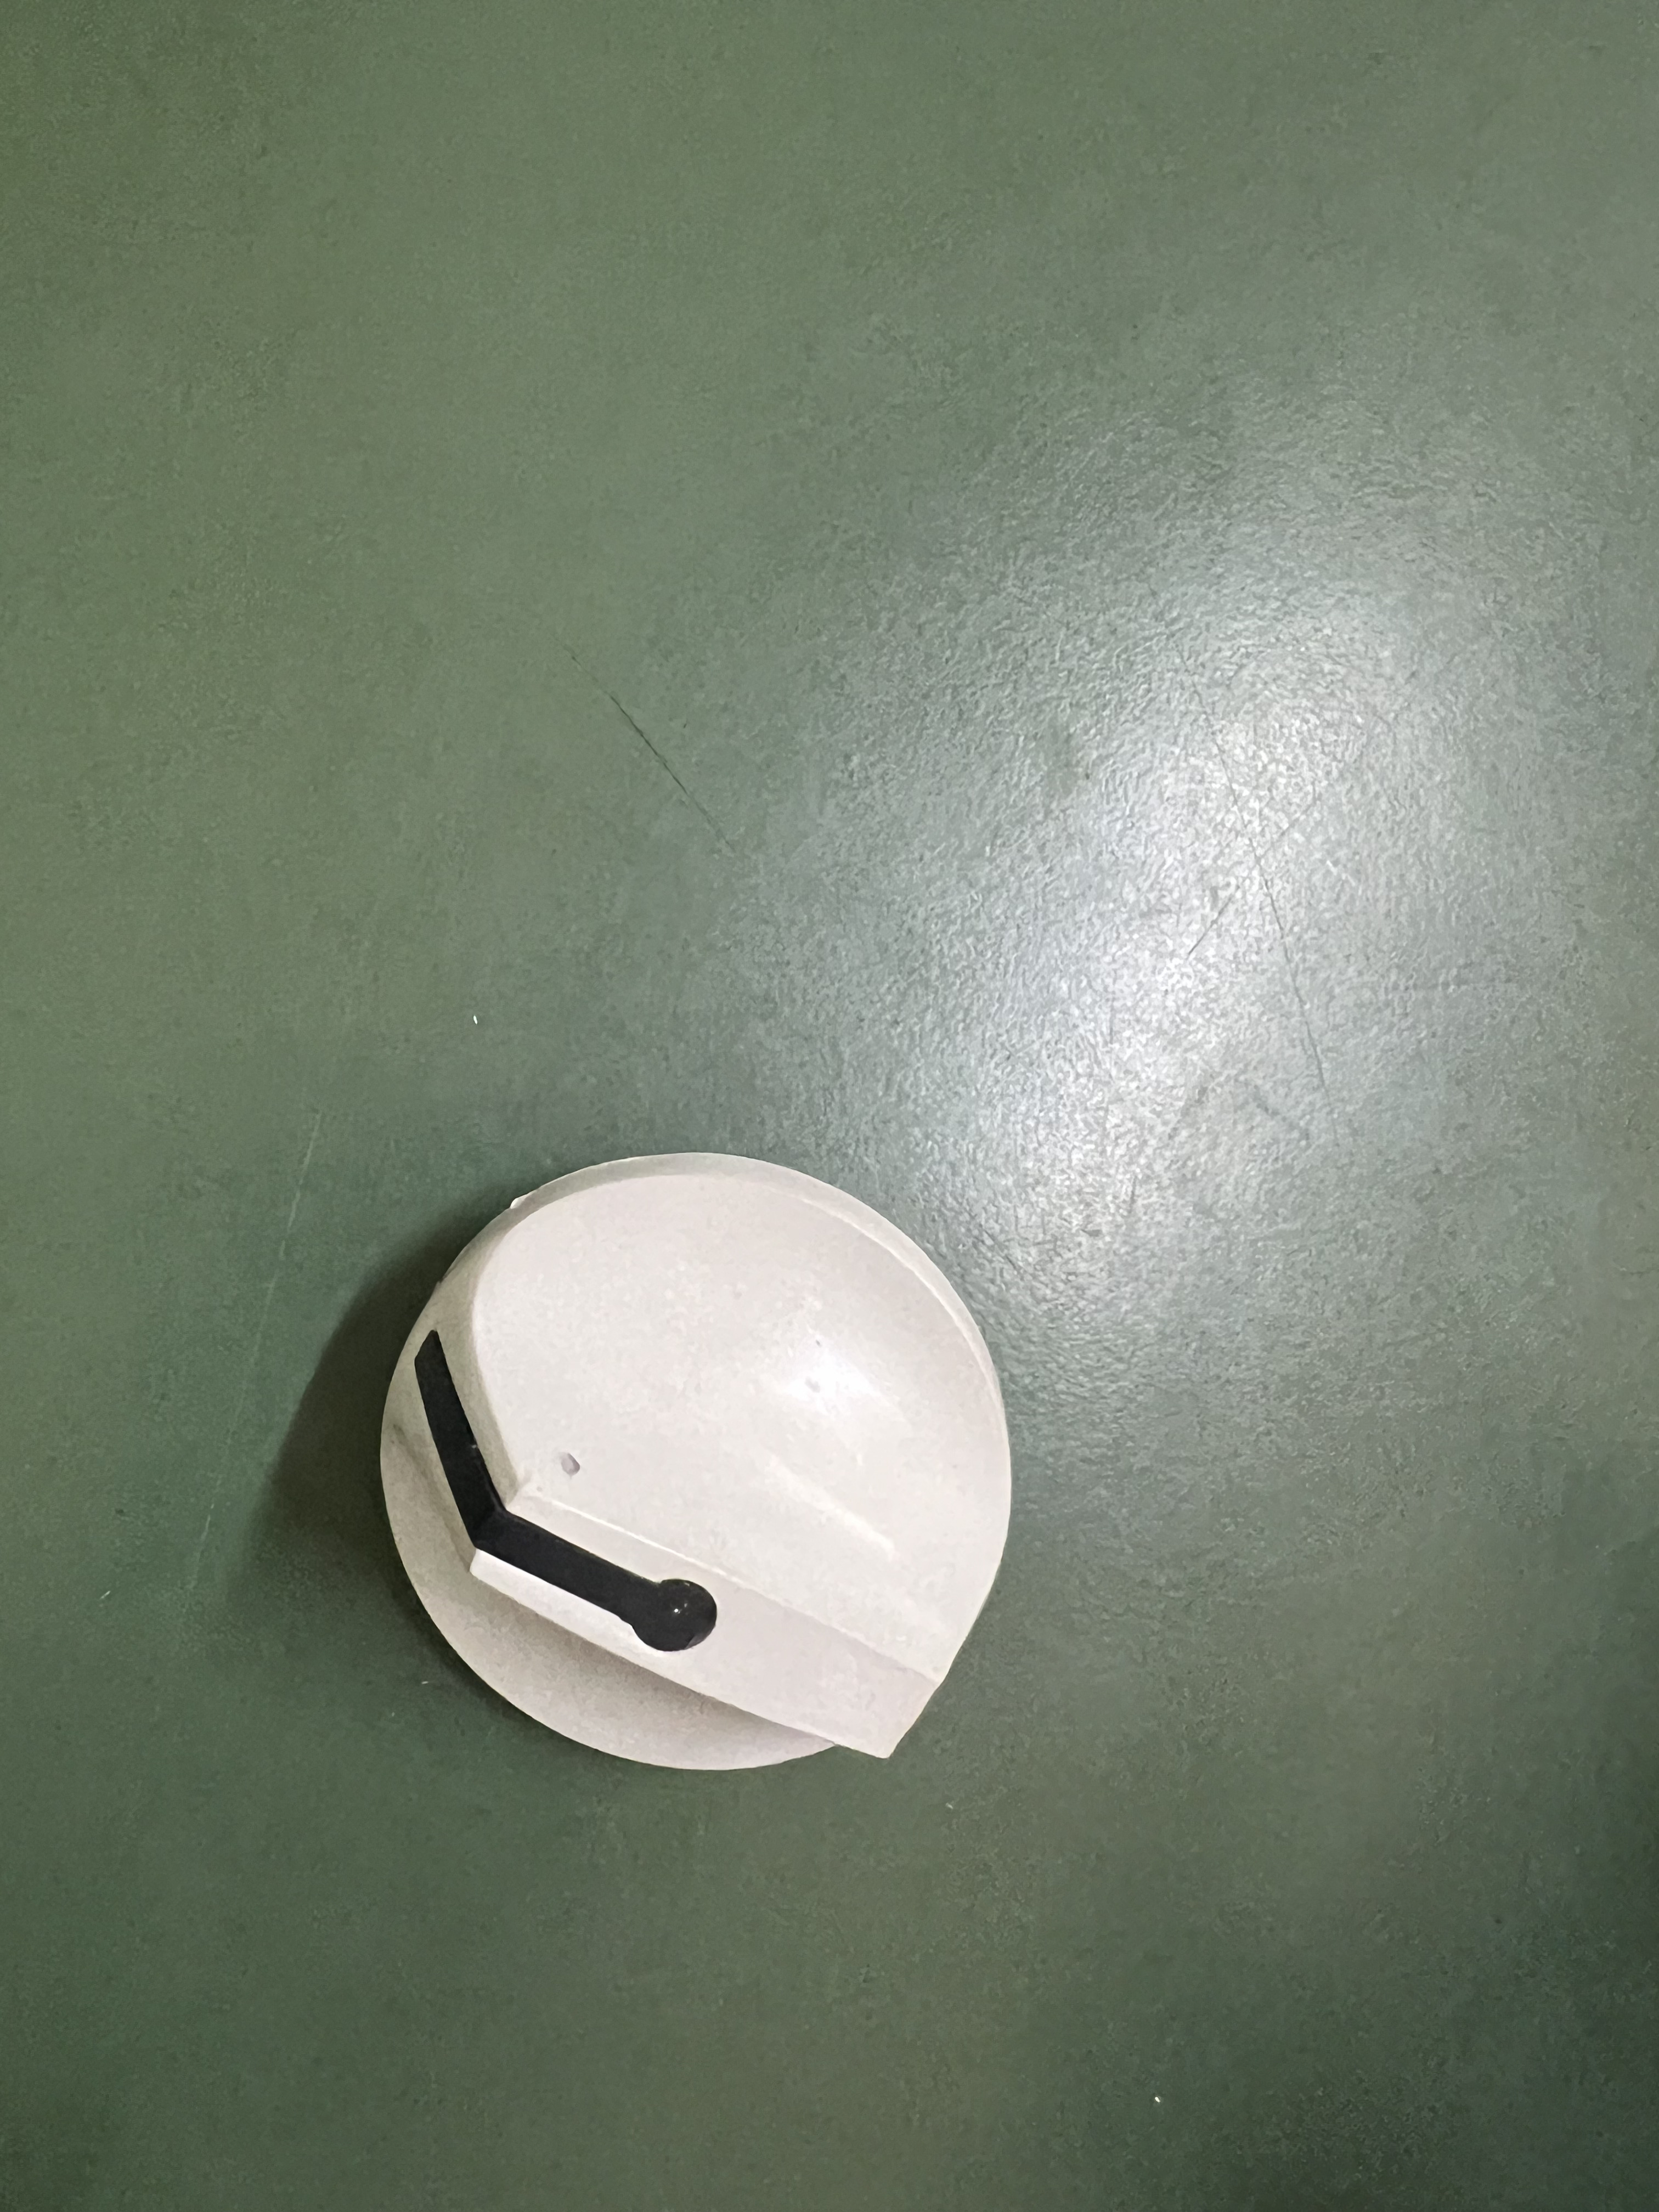regulator: (366, 1143, 1033, 1775)
